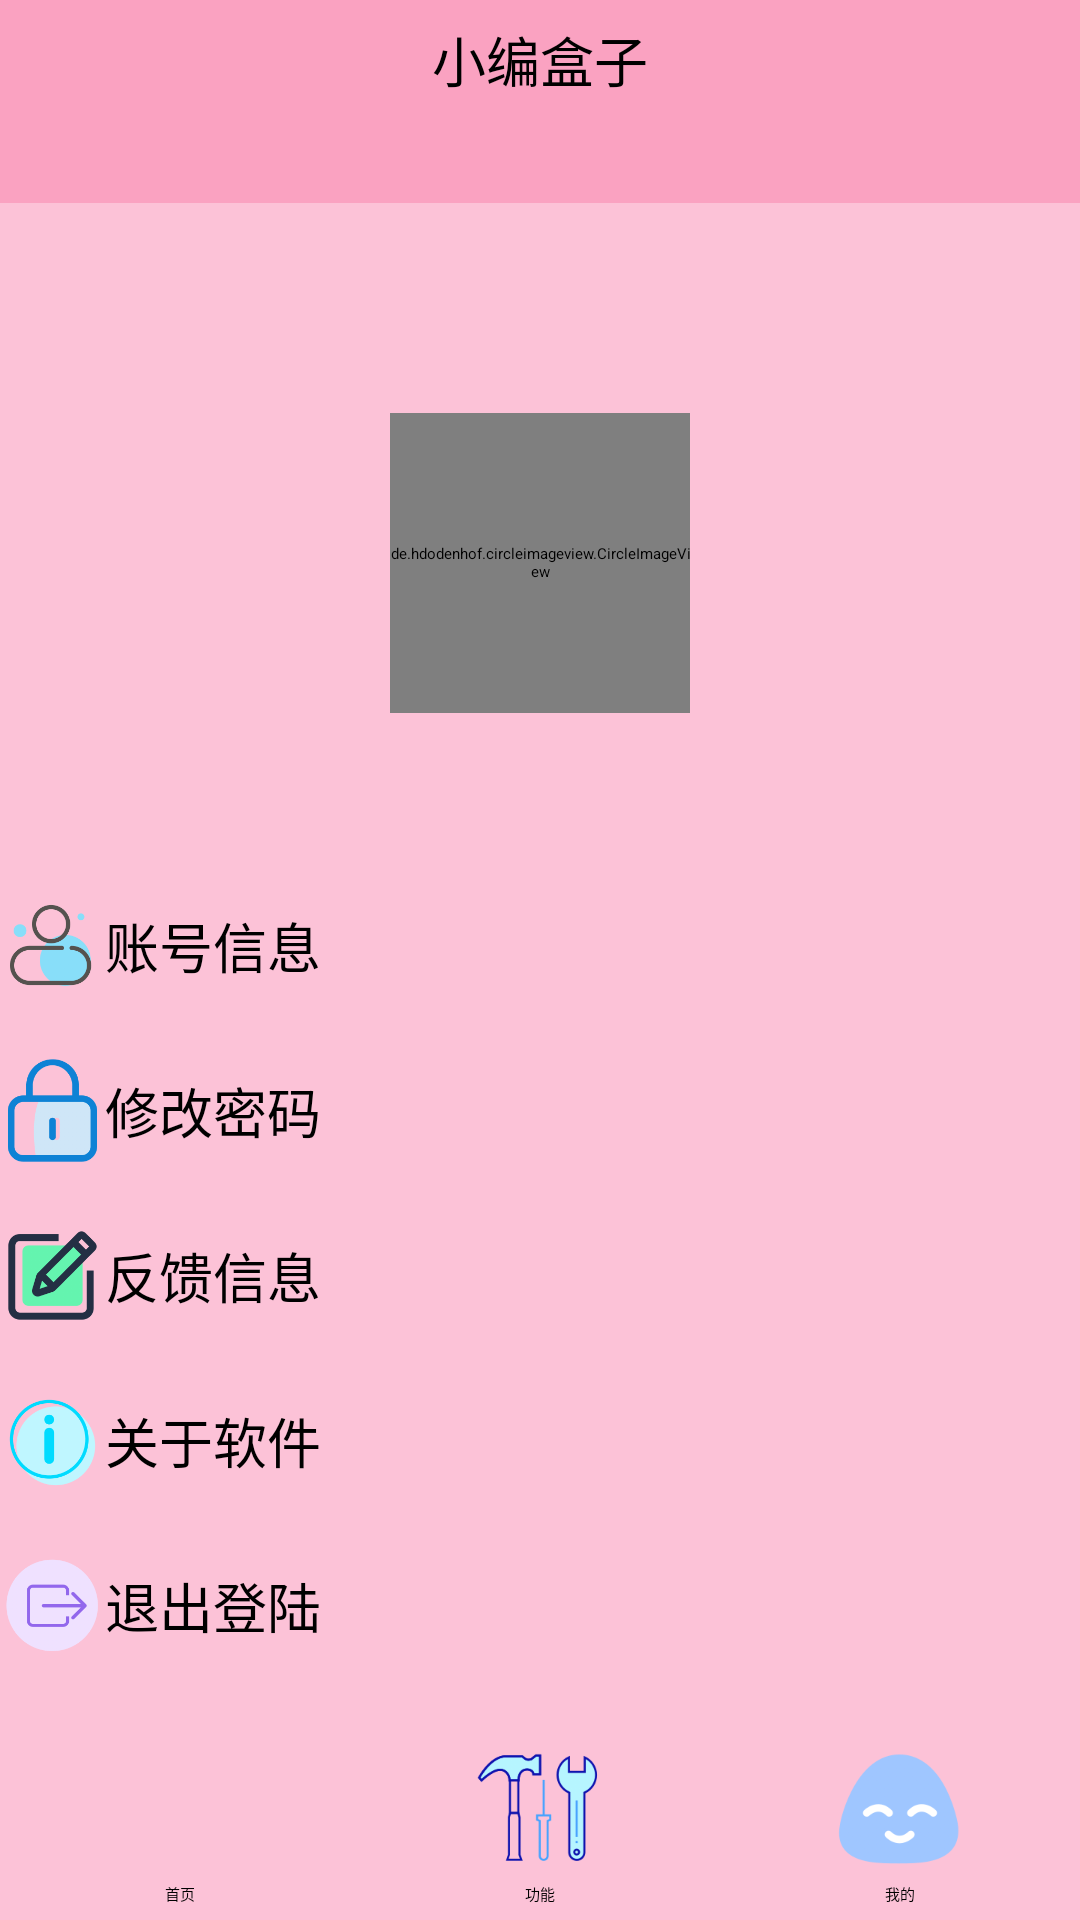

Icon bounding boxes for this 1080w x 1920h phone screenshot, format (x1, y1, x2, y2):
fankui: (8, 1231, 97, 1320)
mima: (8, 1059, 97, 1162)
tuichu: (7, 1560, 98, 1651)
